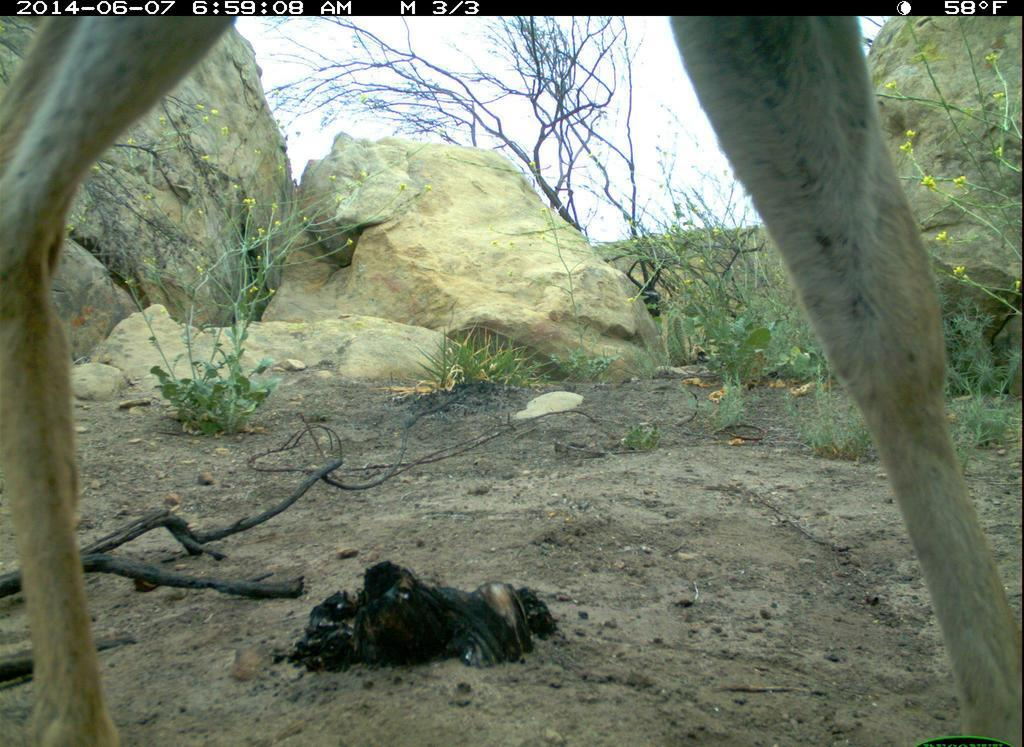deer: (4, 18, 1021, 740)
